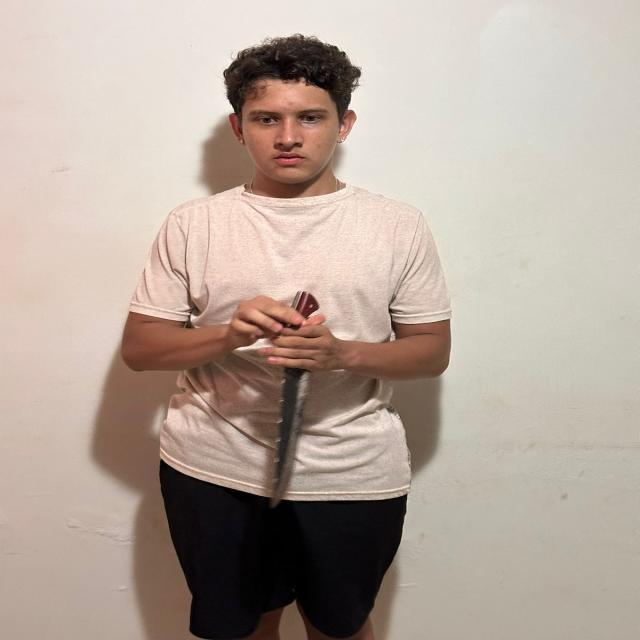knife: (273, 373, 311, 505)
